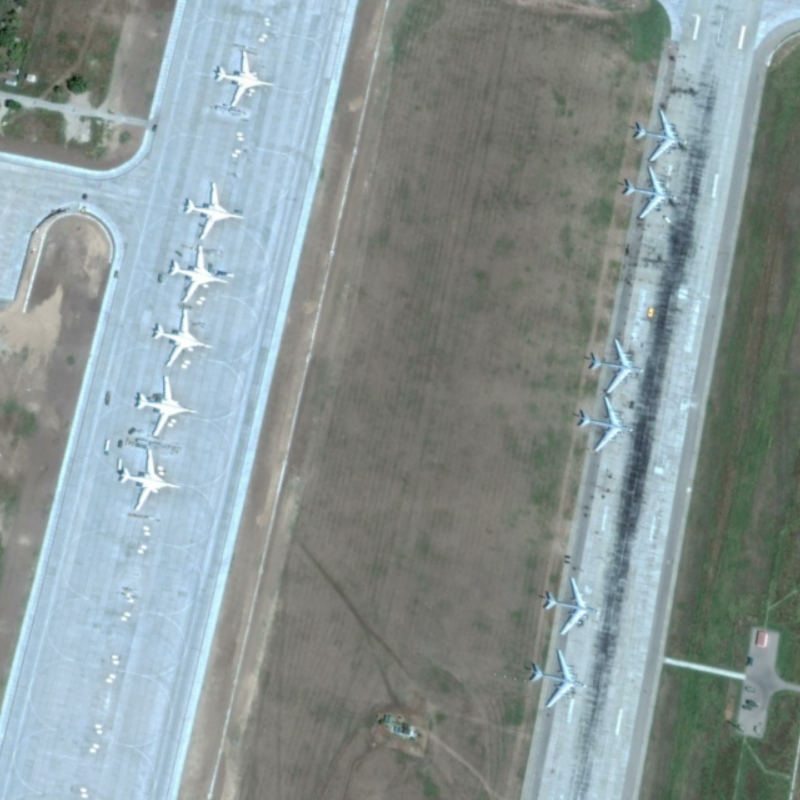A17: (540, 575, 602, 637), (529, 647, 587, 710), (586, 336, 647, 395), (574, 395, 636, 453), (620, 164, 680, 220), (631, 107, 690, 163)
A6: (118, 445, 185, 514), (134, 371, 200, 438), (212, 47, 277, 112), (181, 179, 247, 243), (151, 304, 214, 370), (167, 243, 229, 304)
